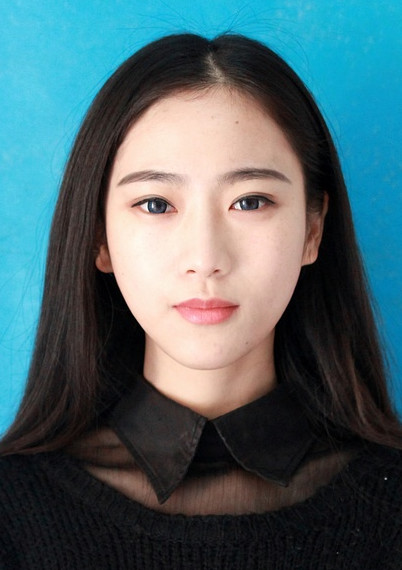unmask: (110, 100, 303, 358)
